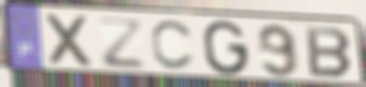9: (256, 23, 299, 79)
B: (304, 25, 355, 80)
C: (148, 19, 196, 72)
G: (202, 19, 251, 78)
X: (43, 12, 96, 69)
Z: (95, 16, 147, 71)
